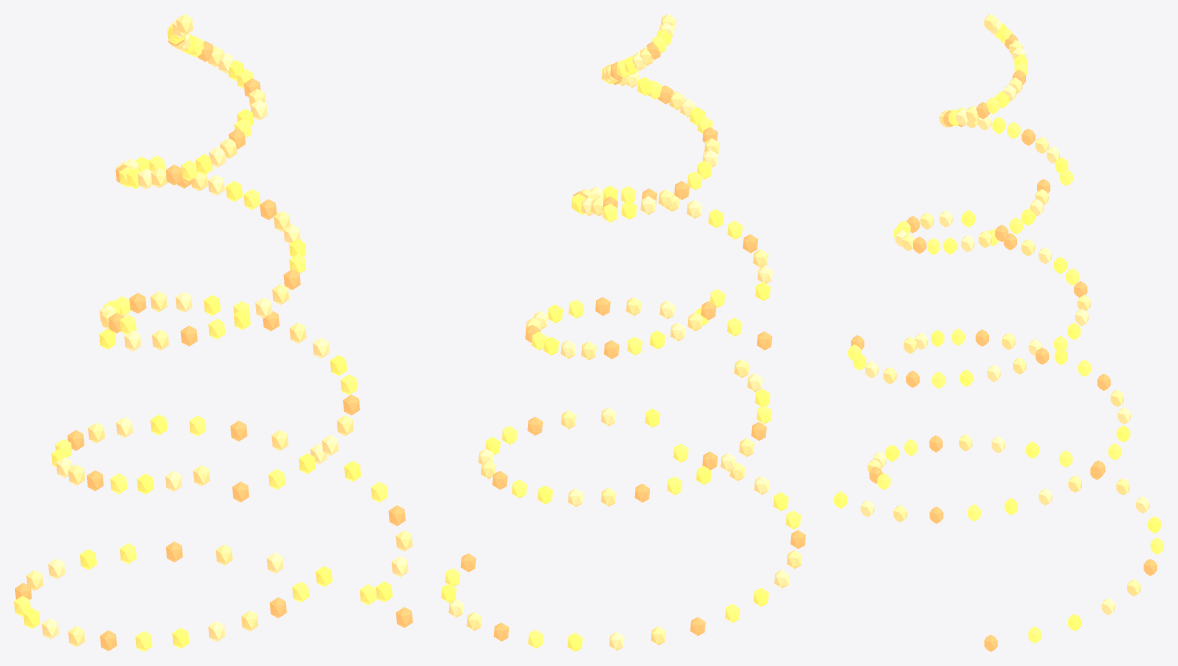
The model's file is TreePlaza_Lights.glb.
3 renders of one model, left to right at view 1: azimuth 30°, elevation 25°; view 2: azimuth 150°, elevation 25°; view 3: azimuth 270°, elevation 25°, orthographic. The views are drawn at different scales.
Parts seen in each view (by area): view 1: TreePlaza_Lights; view 2: TreePlaza_Lights; view 3: TreePlaza_Lights.
Part boxes in pixels (x1,y1,x2,y2): TreePlaza_Lights: (14,14,412,651); TreePlaza_Lights: (441,14,805,651); TreePlaza_Lights: (834,14,1163,651).
Size of the model in its own units: 12.27 by 21.48 by 11.69.
